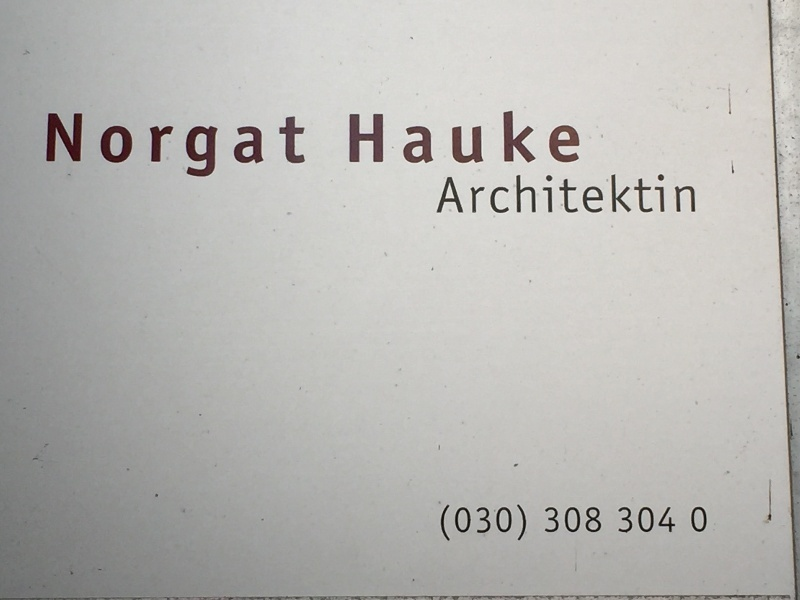text: (49, 112, 64, 180), (65, 112, 80, 180), (81, 112, 96, 180), (97, 112, 112, 180), (113, 112, 128, 180), (129, 112, 144, 180), (145, 112, 160, 180), (161, 112, 176, 180), (177, 112, 192, 180), (193, 112, 208, 180), (209, 112, 224, 180), (225, 112, 240, 180), (241, 112, 256, 180), (257, 112, 272, 180), (273, 112, 288, 180), (289, 112, 304, 180), (353, 111, 368, 165), (369, 111, 384, 165), (385, 111, 400, 165), (401, 111, 416, 165), (417, 111, 432, 165), (433, 111, 448, 165), (449, 111, 464, 165), (465, 111, 480, 165), (481, 111, 496, 165), (497, 111, 512, 165), (513, 111, 528, 165), (529, 111, 544, 165), (545, 111, 560, 165), (561, 111, 576, 165), (449, 174, 464, 214), (465, 174, 480, 214), (481, 174, 496, 214), (497, 174, 512, 214), (513, 174, 528, 214), (529, 174, 544, 214), (545, 174, 560, 214), (561, 174, 576, 214), (577, 174, 592, 214), (593, 174, 608, 214), (609, 174, 624, 214), (625, 174, 640, 214), (641, 174, 656, 214), (657, 174, 672, 214), (673, 174, 688, 214), (449, 503, 464, 542), (465, 503, 480, 542), (481, 503, 496, 542), (497, 503, 512, 542), (513, 503, 527, 542), (625, 505, 640, 532), (641, 505, 656, 532), (657, 505, 672, 532), (545, 507, 560, 533), (561, 507, 576, 533), (577, 507, 592, 533), (691, 508, 704, 533), (689, 174, 697, 214), (441, 503, 448, 542), (577, 111, 581, 165), (593, 507, 601, 533), (349, 111, 352, 165), (618, 505, 624, 532), (673, 505, 676, 532), (47, 112, 48, 180), (305, 112, 306, 180), (705, 508, 707, 533), (447, 174, 448, 214)
